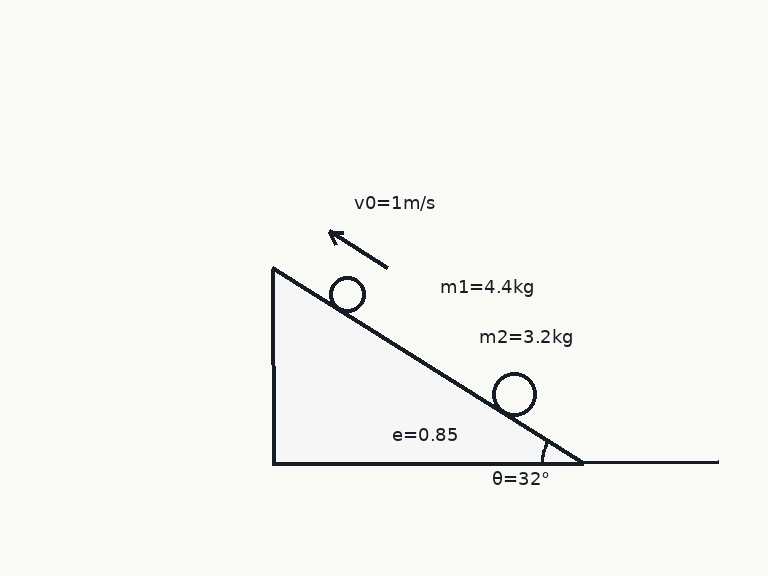ball: (490, 370, 538, 418), (327, 274, 367, 314)
ramp: (270, 267, 584, 464)
